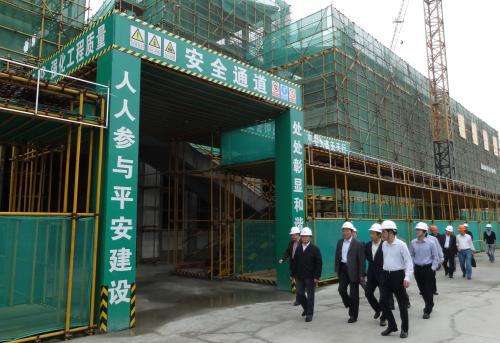helmet: (377, 217, 398, 242), (412, 217, 429, 240), (298, 225, 313, 246), (366, 222, 380, 244), (339, 220, 354, 240), (288, 223, 300, 243), (443, 223, 455, 237), (428, 224, 438, 235), (457, 223, 466, 235)
